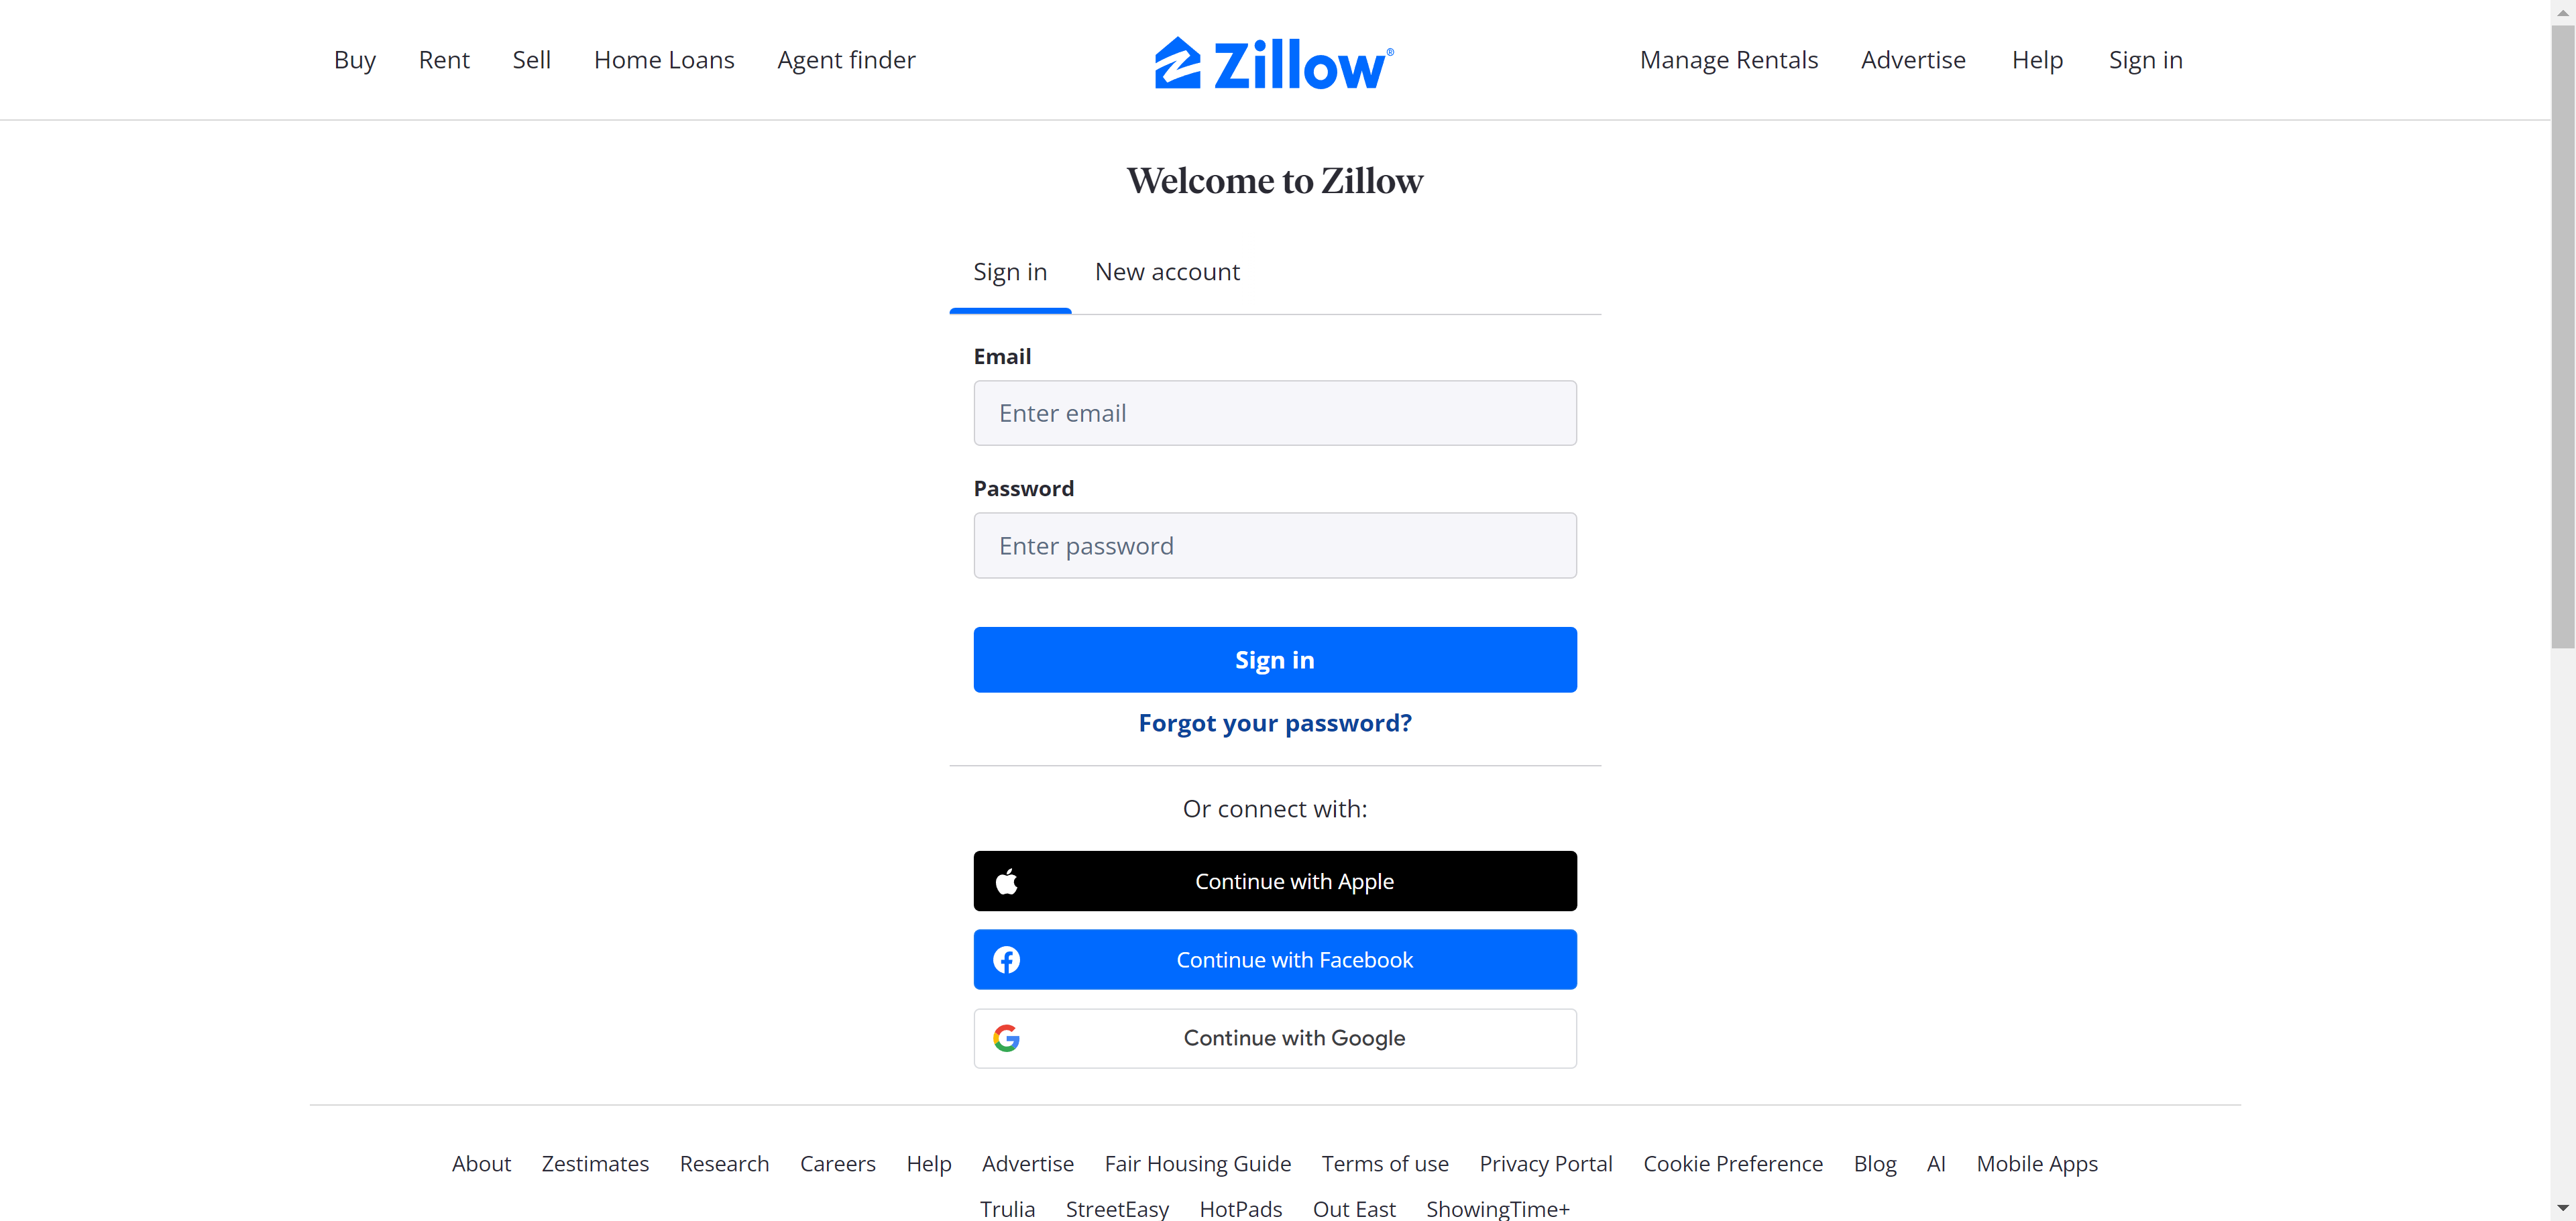login_button: (973, 626, 1577, 692)
login_form: (968, 343, 1585, 700)
